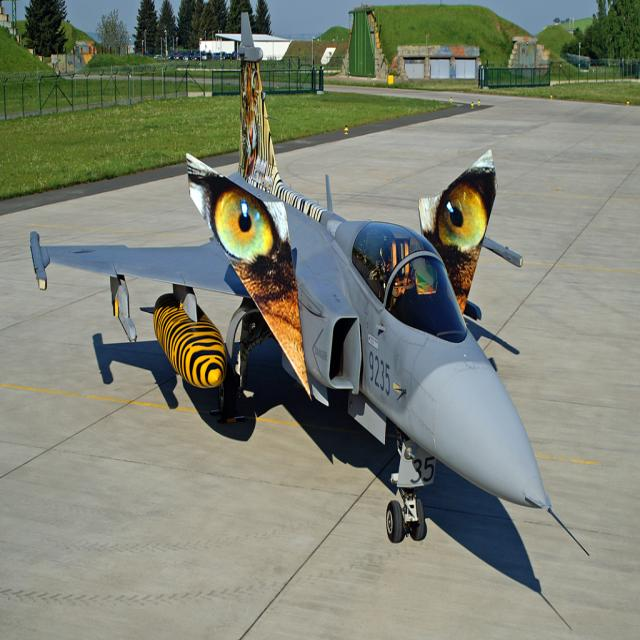MIL_Plane: (29, 11, 592, 558)
